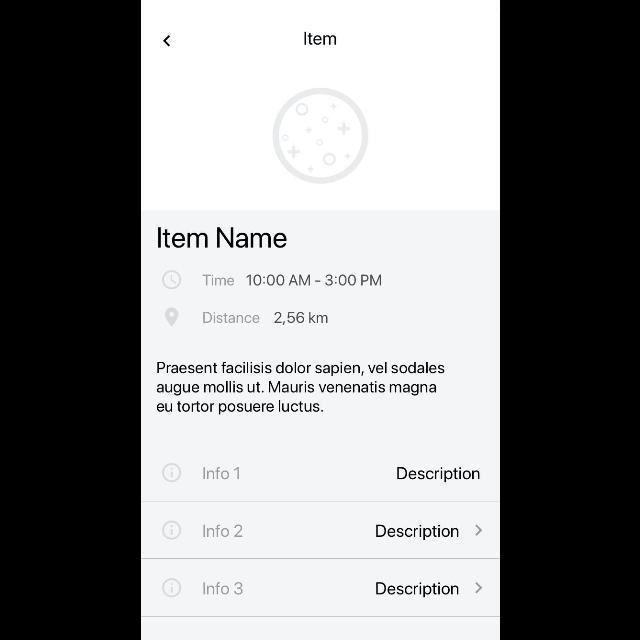icon: (160, 270, 182, 290), (161, 463, 181, 483), (160, 520, 180, 540), (161, 578, 181, 598), (164, 307, 178, 327), (473, 580, 481, 594), (162, 36, 172, 46), (474, 524, 482, 536)
image: (272, 88, 368, 184)
text: (156, 362, 444, 414), (156, 228, 288, 248), (245, 274, 381, 286), (396, 466, 480, 482), (375, 524, 459, 540), (375, 582, 459, 598), (274, 312, 328, 326), (201, 311, 259, 323), (202, 524, 244, 538), (202, 581, 242, 595), (202, 466, 240, 480), (304, 32, 336, 46), (202, 274, 234, 288)
